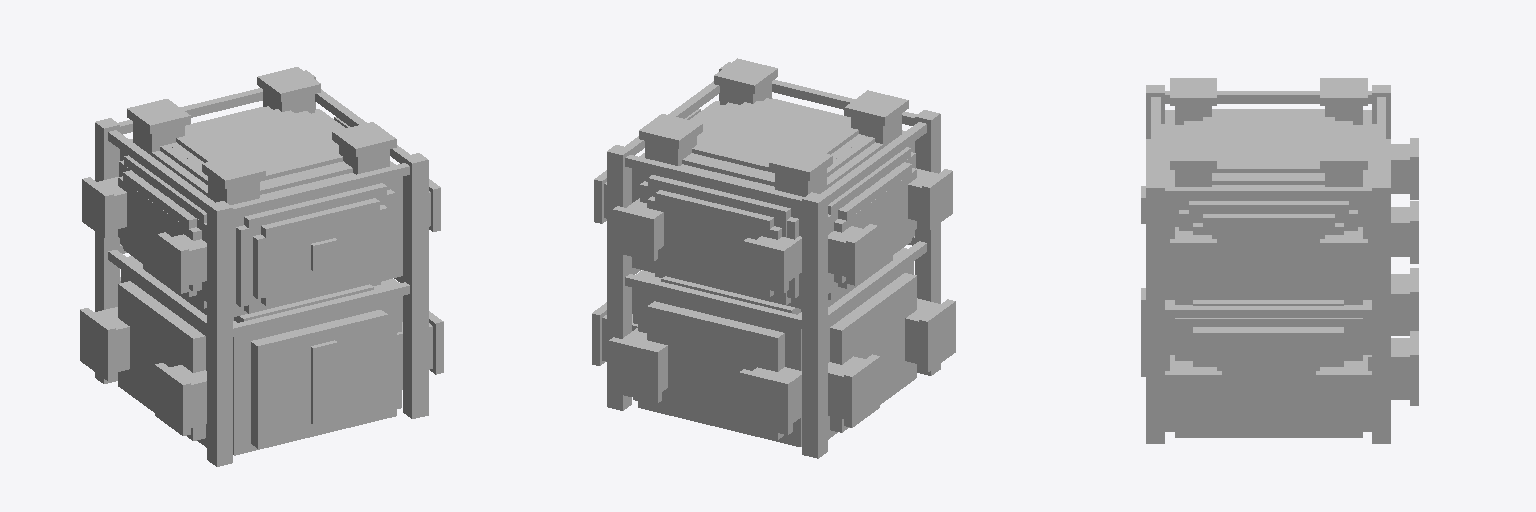
The model's file is steamtank_small.obj.
3 renders of one model, left to right at view 1: azimuth 30°, elevation 25°; view 2: azimuth 150°, elevation 25°; view 3: azimuth 270°, elevation 25°, orthographic.
Visible parts, largest first — view 1: waterTank0, steamTank0, armature0, steamTank9, armature1, waterTank1, waterTank2, steamTank4, armature3, steamTank3, armature7, armature10 (+28 smaller); view 2: waterTank0, steamTank0, armature3, steamTank9, waterTank1, armature2, armature0, waterTank2, waterRightSouth1, waterLeftSouth1, steamTank4, steamTank3 (+28 smaller); view 3: waterTank1, steamTank9, steamTank3, armature1, armature2, steamTank7, waterTank3, waterLeftWest1, waterRightWest1, steamTank2, steamTank5, armature5 (+28 smaller).
Part boxes in pixels (bbox=[...]): waterTank0: bbox=[251, 310, 387, 448]; steamTank0: bbox=[261, 198, 379, 305]; armature0: bbox=[207, 201, 232, 466]; steamTank9: bbox=[176, 109, 342, 181]; armature1: bbox=[403, 153, 428, 418]; waterTank1: bbox=[118, 279, 402, 440]; waterTank2: bbox=[127, 256, 396, 455]; steamTank4: bbox=[193, 107, 386, 313]; armature3: bbox=[95, 118, 119, 383]; steamTank3: bbox=[118, 176, 201, 291]; armature7: bbox=[231, 163, 409, 217]; armature10: bbox=[233, 282, 409, 336]; waterTank0: bbox=[647, 301, 784, 439]; steamTank0: bbox=[655, 190, 773, 297]; armature3: bbox=[802, 192, 827, 458]; steamTank9: bbox=[692, 101, 858, 172]; waterTank1: bbox=[632, 270, 916, 432]; armature2: bbox=[607, 145, 631, 410]; armature0: bbox=[915, 110, 940, 375]; waterTank2: bbox=[638, 248, 907, 446]; waterRightSouth1: bbox=[739, 369, 792, 434]; waterLeftSouth1: bbox=[609, 337, 661, 403]; steamTank4: bbox=[648, 98, 850, 305]; steamTank3: bbox=[834, 168, 916, 283]; waterTank1: bbox=[1193, 327, 1343, 435]; steamTank9: bbox=[1203, 113, 1334, 172]; steamTank3: bbox=[1193, 223, 1343, 285]; armature1: bbox=[1146, 180, 1164, 443]; armature2: bbox=[1372, 180, 1390, 443]; steamTank7: bbox=[1165, 110, 1371, 299]; waterTank3: bbox=[1175, 318, 1362, 437]; waterLeftWest1: bbox=[1165, 371, 1221, 425]; waterRightWest1: bbox=[1316, 371, 1371, 425]; steamTank2: bbox=[1203, 214, 1334, 294]; steamTank5: bbox=[1189, 201, 1348, 298]; armature5: bbox=[1165, 187, 1371, 198].
Size of the model in its own units: 2 by 2 by 1.85.